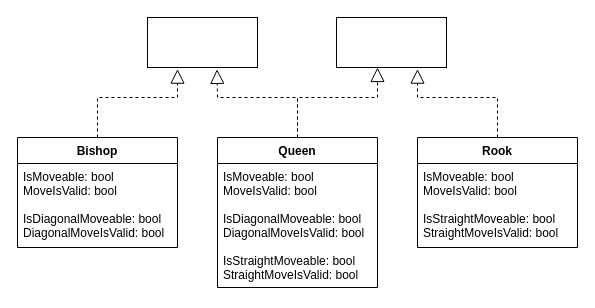
This 595x308 diagram has some shape labels left out. The centre of each missing label's shape, as x and y in pixels:
«interface» IDiagonal: the point at 391,42
«interface» IStraight: the point at 202,42
